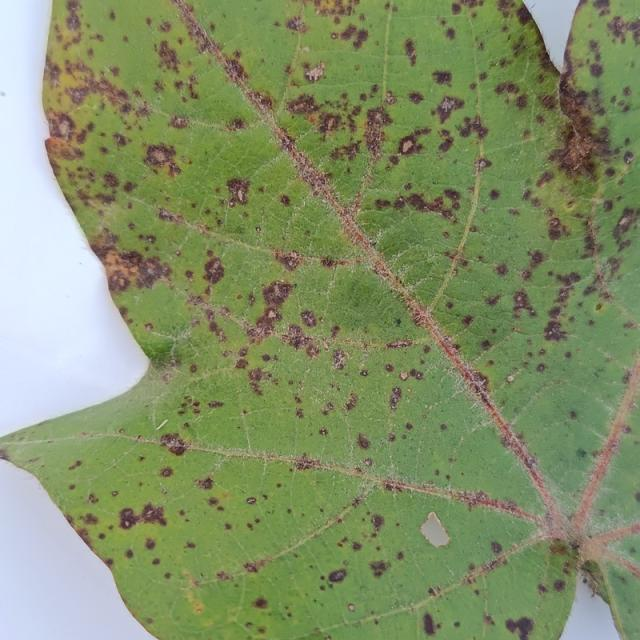Bacterial_Blight: (48, 142, 126, 228), (54, 59, 140, 128), (279, 137, 345, 206), (244, 280, 298, 340), (378, 187, 461, 220), (545, 269, 592, 325), (544, 140, 596, 187), (98, 245, 148, 291), (209, 171, 267, 207), (125, 252, 173, 293), (377, 358, 425, 396), (118, 500, 168, 530), (143, 141, 181, 175), (44, 135, 84, 166), (362, 107, 390, 151), (520, 249, 554, 285), (329, 21, 371, 50), (610, 207, 638, 250), (394, 129, 433, 158), (303, 0, 359, 19), (285, 92, 323, 119), (155, 38, 183, 74), (260, 279, 294, 308), (434, 94, 465, 125), (455, 113, 488, 142), (246, 366, 275, 395), (48, 110, 77, 138), (504, 615, 535, 640), (222, 57, 249, 84), (510, 289, 536, 317), (202, 256, 227, 285), (159, 432, 189, 456), (318, 111, 344, 136), (542, 319, 568, 342), (274, 250, 301, 271), (469, 369, 491, 394), (546, 217, 568, 241), (303, 60, 327, 82), (403, 38, 418, 66), (368, 559, 390, 578), (168, 114, 192, 131), (158, 207, 182, 223), (431, 69, 453, 86), (293, 455, 316, 471), (422, 612, 437, 636), (285, 16, 307, 32), (388, 386, 402, 410), (332, 350, 347, 370), (327, 568, 347, 583), (195, 475, 214, 490), (473, 156, 490, 172), (356, 432, 371, 450), (386, 339, 412, 349), (248, 367, 263, 382), (408, 90, 424, 104), (494, 263, 509, 277), (523, 455, 537, 469), (371, 514, 384, 529), (253, 596, 268, 609), (158, 466, 174, 478), (68, 459, 83, 471), (488, 188, 501, 201), (321, 402, 334, 415), (623, 151, 635, 165), (243, 562, 258, 573), (490, 541, 502, 554), (553, 579, 566, 591), (402, 139, 413, 153), (144, 538, 156, 550), (207, 400, 224, 408), (351, 541, 362, 551), (87, 494, 98, 504), (577, 448, 588, 458), (363, 457, 373, 467), (261, 353, 271, 362), (569, 410, 578, 420), (384, 363, 394, 372), (536, 363, 546, 372), (246, 497, 257, 505), (189, 364, 198, 373), (319, 427, 328, 436), (405, 422, 413, 430), (394, 318, 402, 326), (440, 423, 448, 430), (348, 604, 355, 612), (111, 490, 118, 497), (517, 295, 523, 302), (256, 226, 261, 232)
Cotton: (0, 0, 639, 639)
